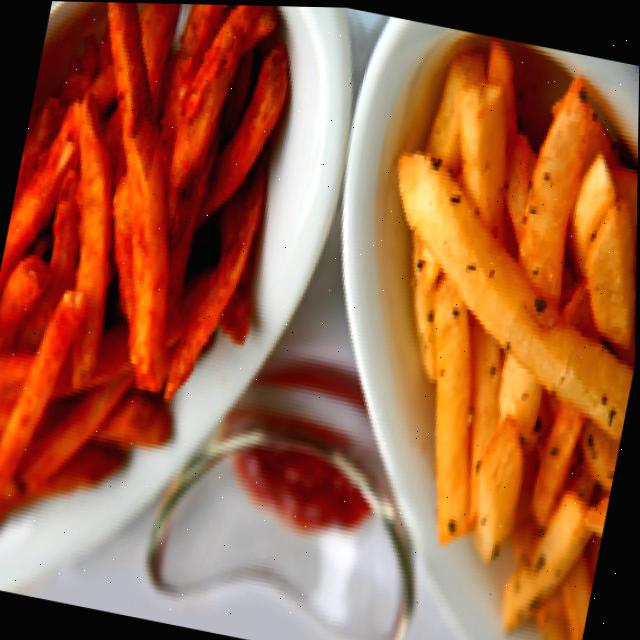炸货点心: (278, 13, 640, 640), (0, 0, 359, 611)
